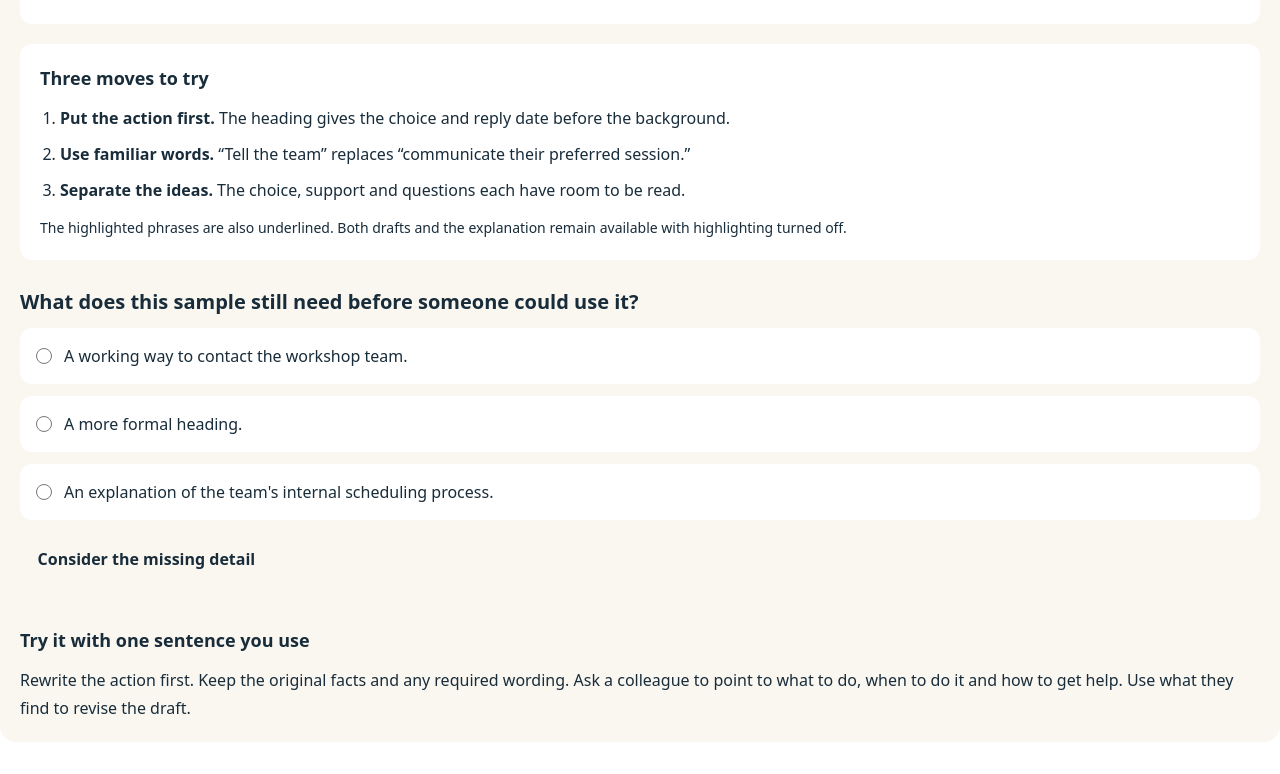
Test: supports reconsidering the missing contact detail without saving or reporting learner activity
(page scrolled)
Expected: the button "Consider the missing detail" is disabled, [20, 536, 273, 582]
Click the radio button labelled "A more formal heading.": point(44, 424) [36, 416, 52, 432]
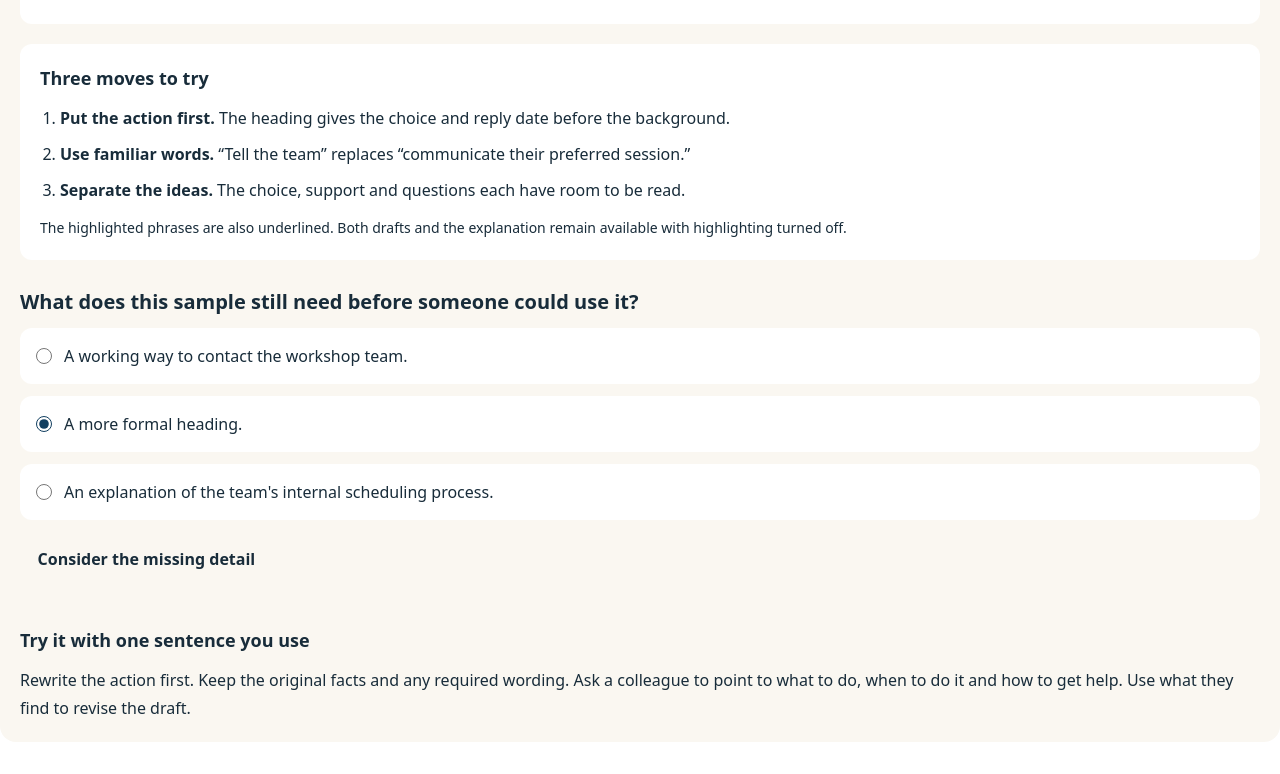
Click the button "Consider the missing detail": point(146, 559) [20, 536, 273, 582]
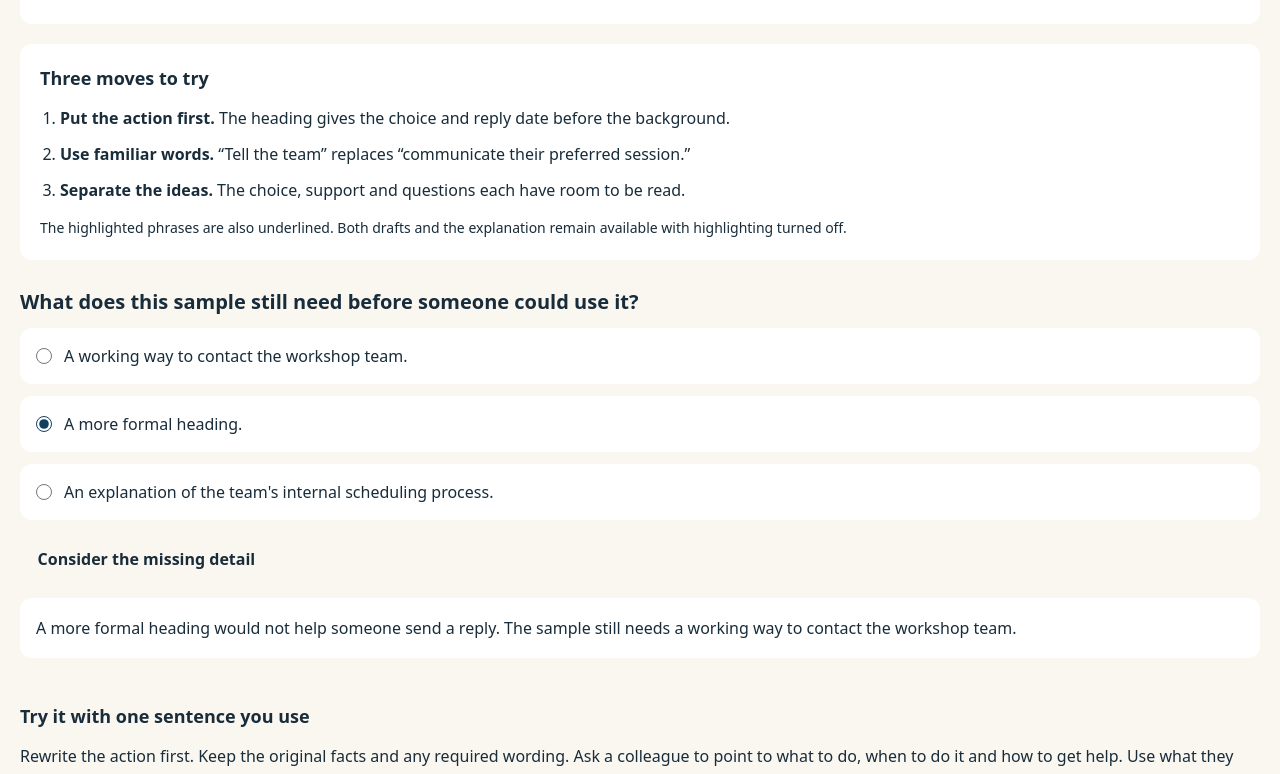
Now the text "A more formal heading would not help someone send a reply" is shown, box [36, 617, 1017, 639]
Click the radio button labelled "An explanation of the team's internal scheduling process.": point(44, 492) [36, 484, 52, 500]
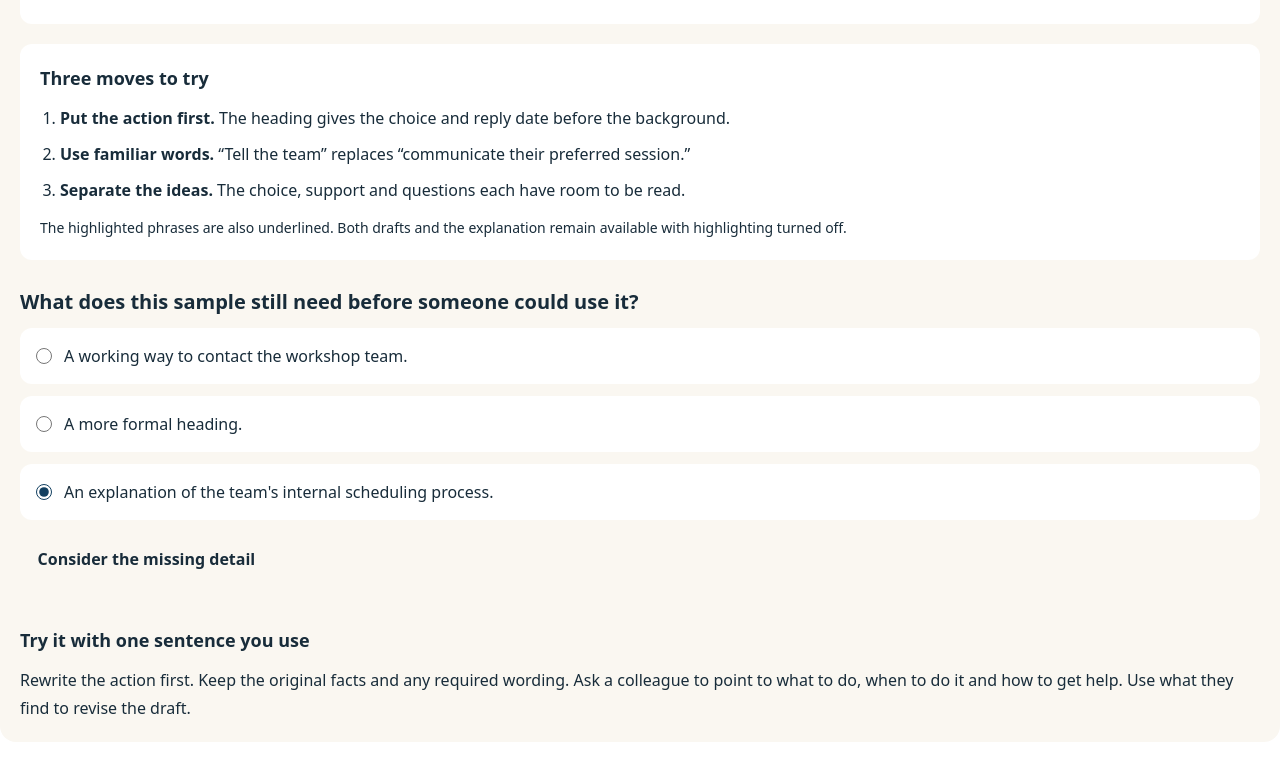
Now the text "A more formal heading would not help someone send a reply" is gone
Click the button "Consider the missing detail": point(146, 559) [20, 536, 273, 582]
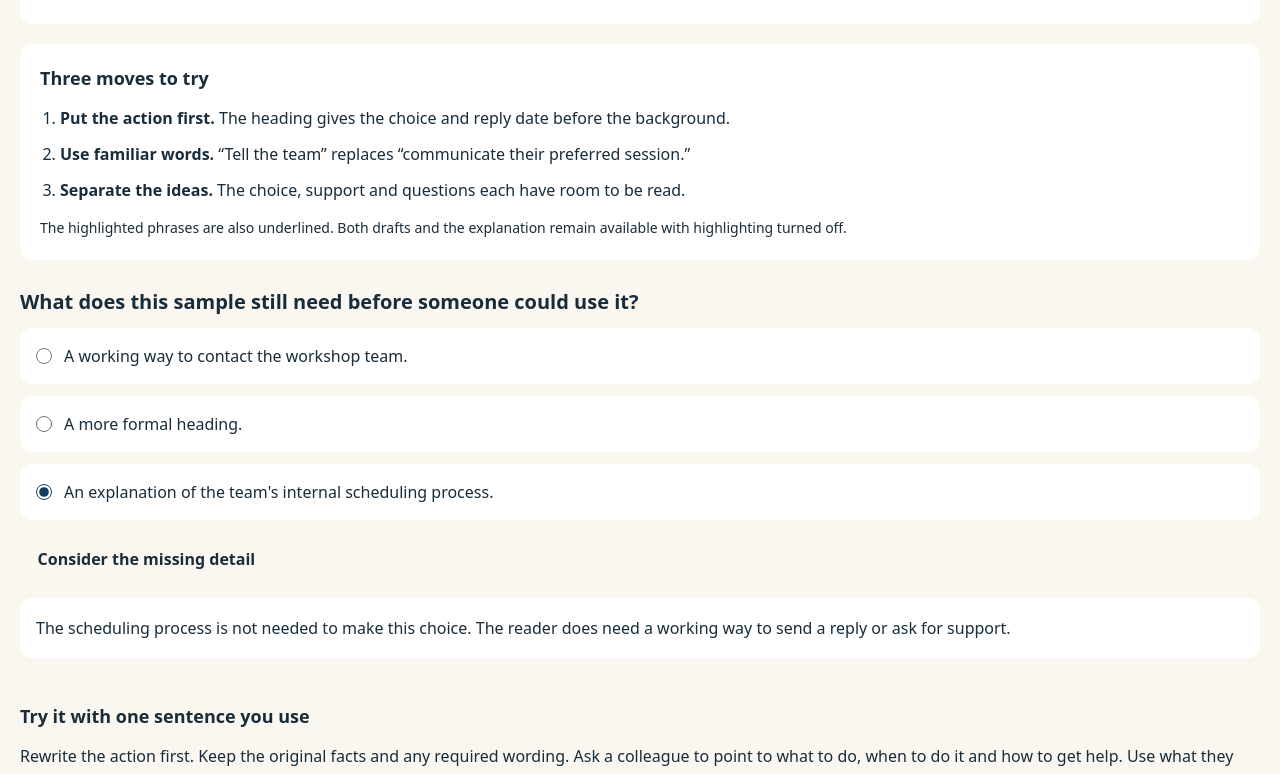
Now the text "The scheduling process is not needed to make this choice" is shown, box [36, 617, 1011, 639]
Click the radio button labelled "A working way to contact the workshop team.": point(44, 356) [36, 348, 52, 364]
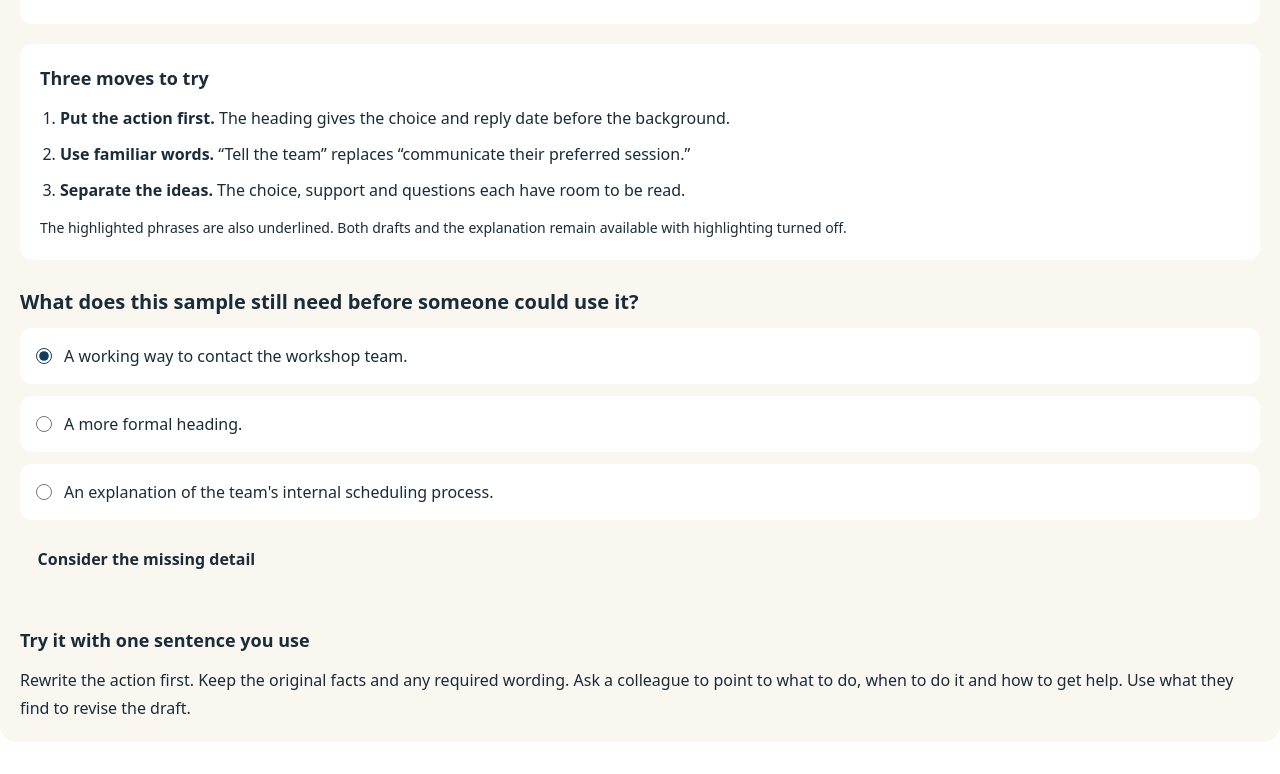
Click the button "Consider the missing detail": point(146, 559) [20, 536, 273, 582]
(page scrolled)
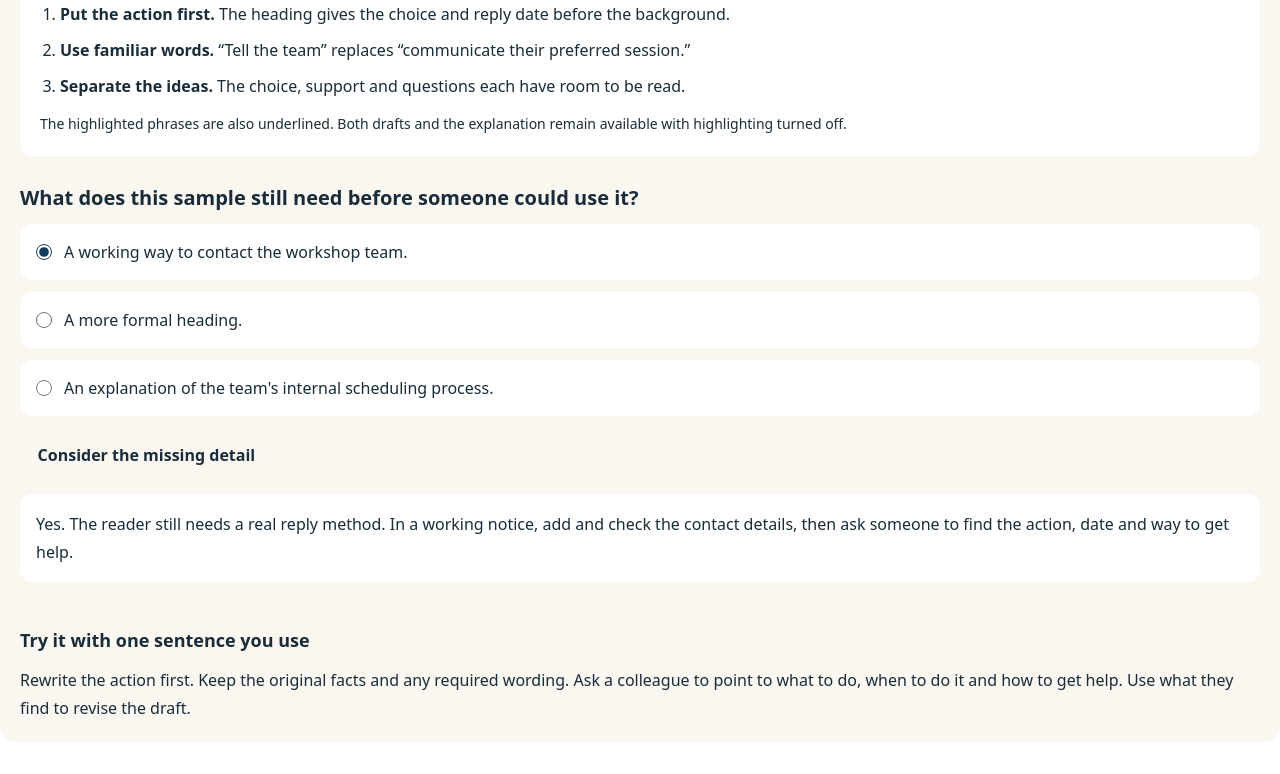
Expected: the text "Keep the original facts and any required wording" is shown, [20, 669, 1233, 719]
Now the text "add and check the contact details" is shown, box [36, 513, 1229, 563]
